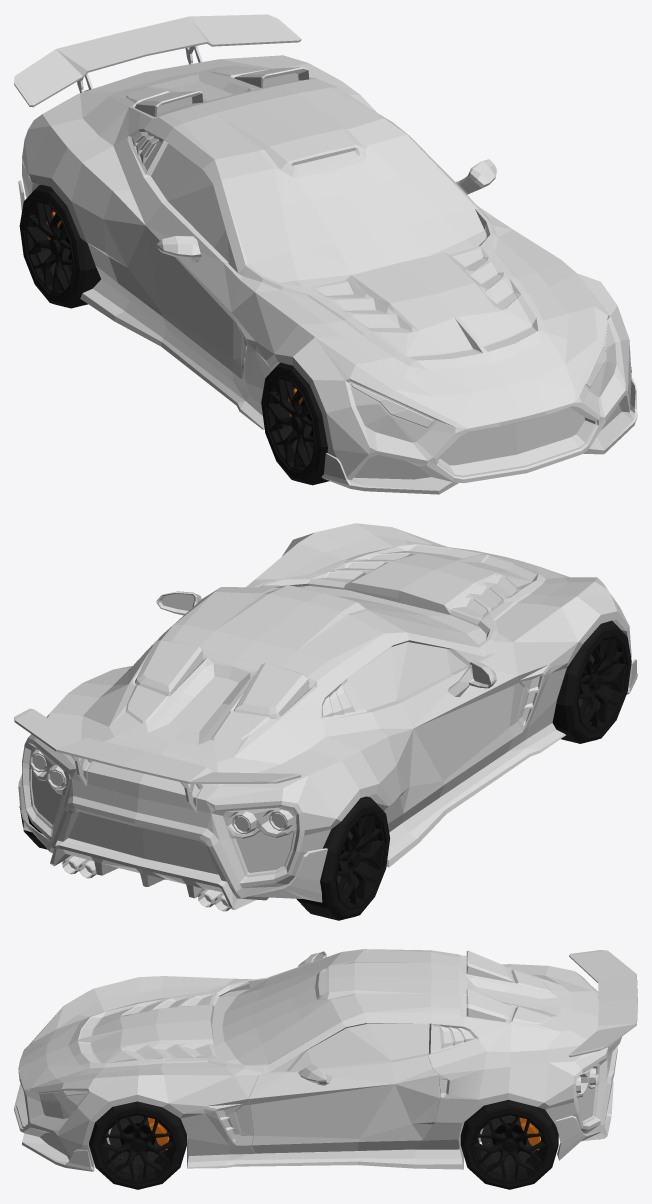
The model's file is LP_Veh_Sports_04.fbx.
3 views of the same model, one above another, from view 1: azimuth 30°, elevation 25°; view 2: azimuth 150°, elevation 25°; view 3: azimuth 270°, elevation 25° (orthographic). The views are drawn at different scales.
Visible parts, largest first — view 1: LP_Veh_Sports_04, LP_Veh_Sports_Glass_001_04, LP_Veh_Sports_Wheel_004_04, LP_Veh_Sports_Wheel_002_04, LP_Veh_Sports_Glass_002_04; view 2: LP_Veh_Sports_04, LP_Veh_Sports_Wheel_002_04, LP_Veh_Sports_Wheel_004_04, LP_Veh_Sports_Glass_001_04; view 3: LP_Veh_Sports_04, LP_Veh_Sports_Glass_001_04, LP_Veh_Sports_Wheel_003_04, LP_Veh_Sports_Wheel_001_04, LP_Veh_Sports_Brake disk_001_04, LP_Veh_Sports_Brake disk_003_04.
Boxes of the visible parts, bbox=[...] form: LP_Veh_Sports_04: bbox=[14, 14, 637, 494]; LP_Veh_Sports_Glass_001_04: bbox=[151, 134, 484, 282]; LP_Veh_Sports_Wheel_004_04: bbox=[19, 184, 100, 308]; LP_Veh_Sports_Wheel_002_04: bbox=[261, 362, 329, 485]; LP_Veh_Sports_Glass_002_04: bbox=[351, 321, 608, 427]; LP_Veh_Sports_04: bbox=[14, 523, 637, 911]; LP_Veh_Sports_Wheel_002_04: bbox=[552, 620, 631, 743]; LP_Veh_Sports_Wheel_004_04: bbox=[296, 796, 390, 920]; LP_Veh_Sports_Glass_001_04: bbox=[337, 596, 478, 710]; LP_Veh_Sports_04: bbox=[14, 949, 637, 1171]; LP_Veh_Sports_Glass_001_04: bbox=[222, 952, 429, 1070]; LP_Veh_Sports_Wheel_003_04: bbox=[460, 1100, 558, 1189]; LP_Veh_Sports_Wheel_001_04: bbox=[89, 1101, 186, 1189]; LP_Veh_Sports_Brake disk_001_04: bbox=[109, 1115, 168, 1165]; LP_Veh_Sports_Brake disk_003_04: bbox=[480, 1115, 540, 1165].
Size of the model in its own units: 2.46 by 1.44 by 5.15.
